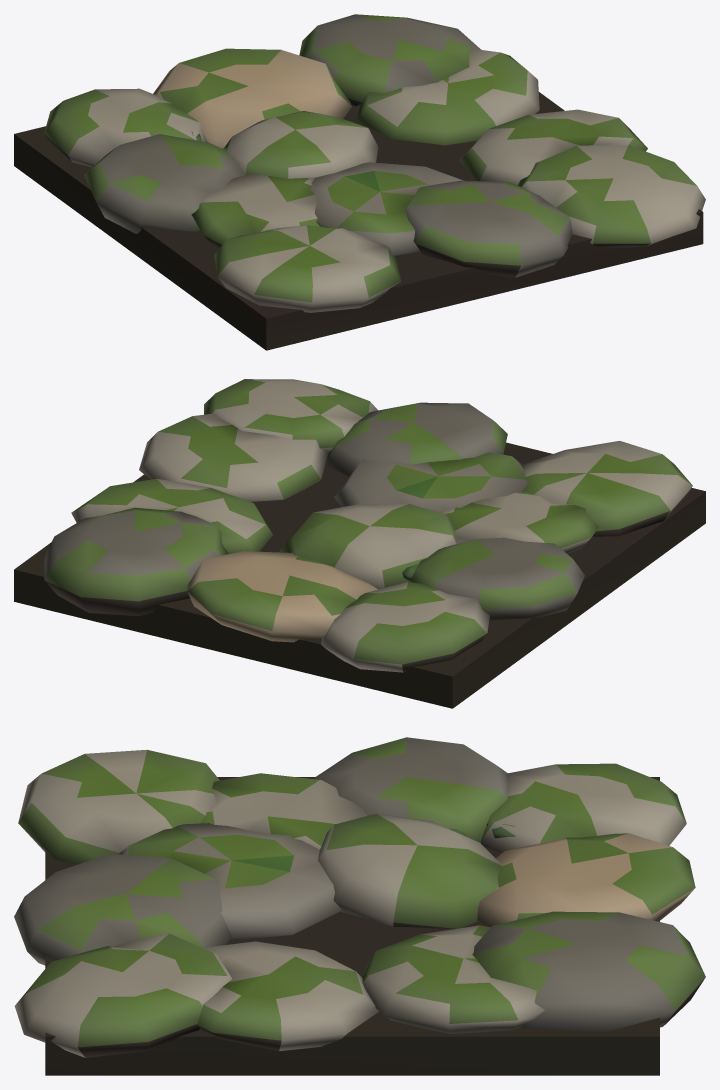
Rendered from kit_corr2.glb.
3 renders of one model, top to bottom at view 1: azimuth 30°, elevation 25°; view 2: azimuth 150°, elevation 25°; view 3: azimuth 270°, elevation 25°, orthographic. The views are drawn at different scales.
Parts seen in each view (by area): view 1: kit_corr2; view 2: kit_corr2; view 3: kit_corr2.
Boxes of the visible parts, <box> form: kit_corr2: <box>14,14,705,350</box>; kit_corr2: <box>14,379,705,708</box>; kit_corr2: <box>14,737,705,1075</box>.
Bounding box in the file's own units: 1.1 × 0.1448 × 1.13.
